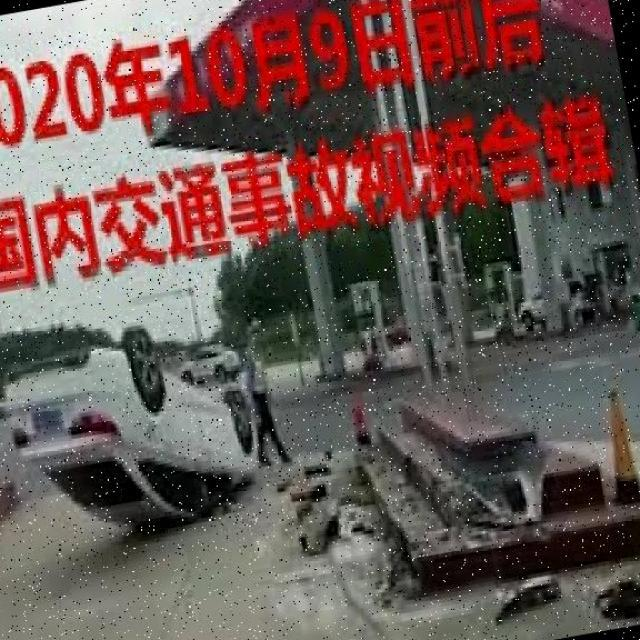accident: (0, 285, 303, 588)
